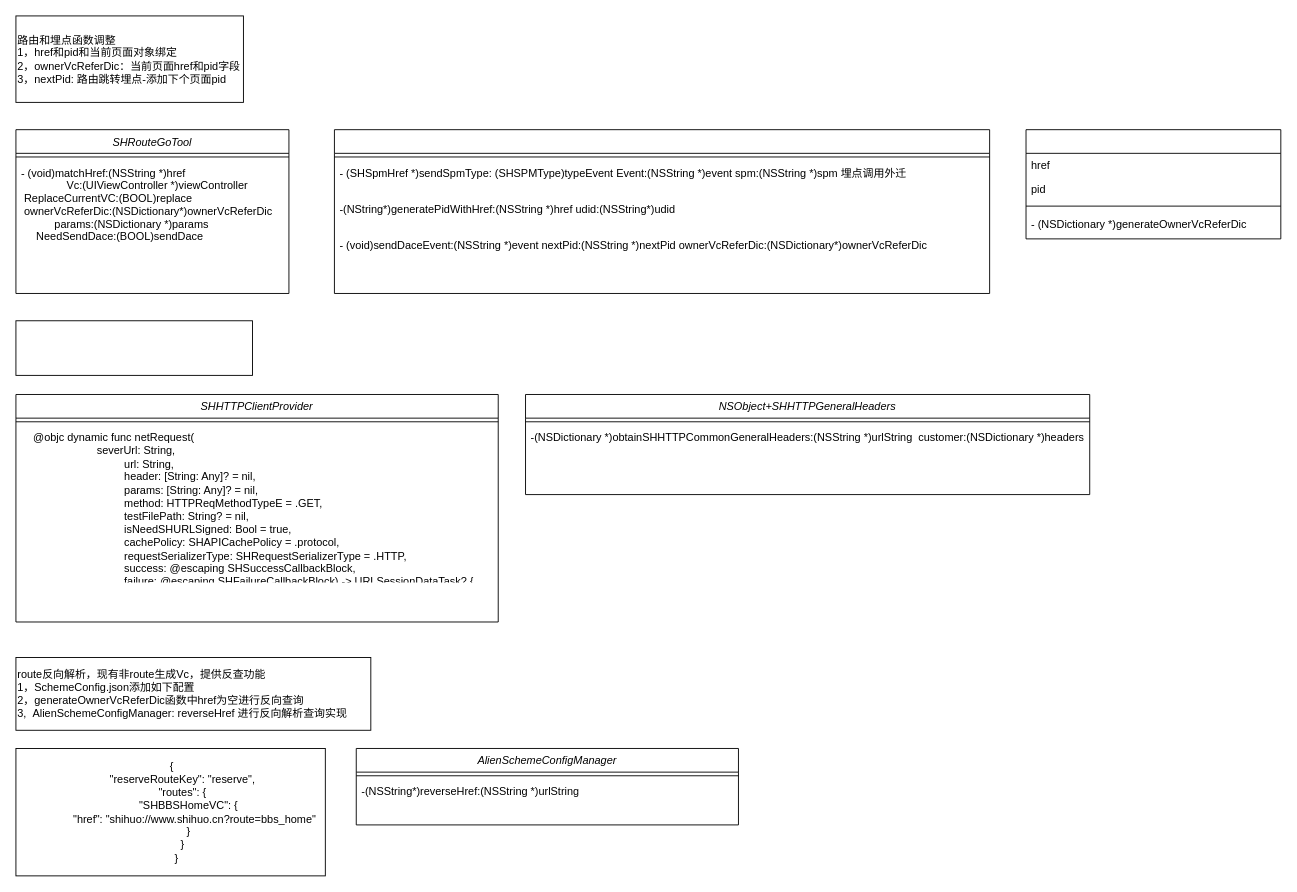
This 1297x892 diagram has some shape labels left out. Each missing label, with the box of its shape:
StatisticsEvent: (334, 129, 990, 293)
UIViewController+Route: (1025, 129, 1281, 239)
网络请求函数调整 1，针对最新版本网络请求库 2，添加header参数 传入ownerVcReferDic: (15, 320, 253, 375)
